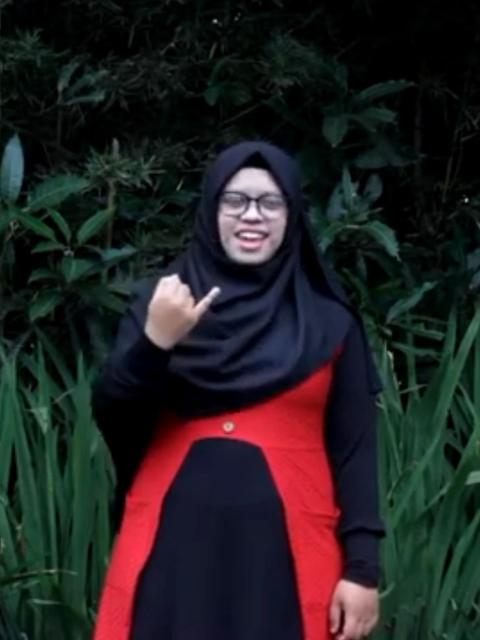J: (140, 274, 220, 352)
